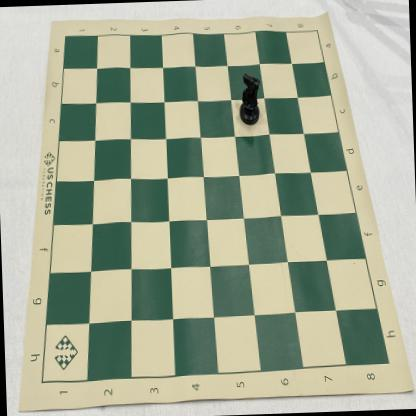knight: (238, 72, 262, 128)
